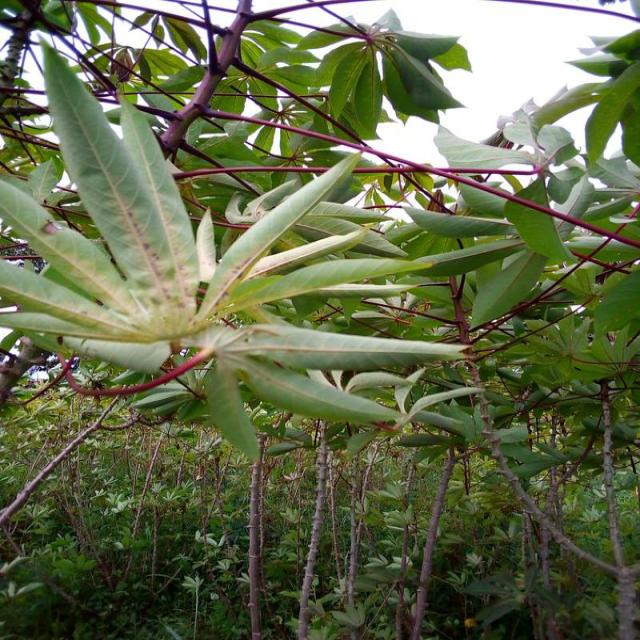cassava leaf: (0, 35, 477, 462)
